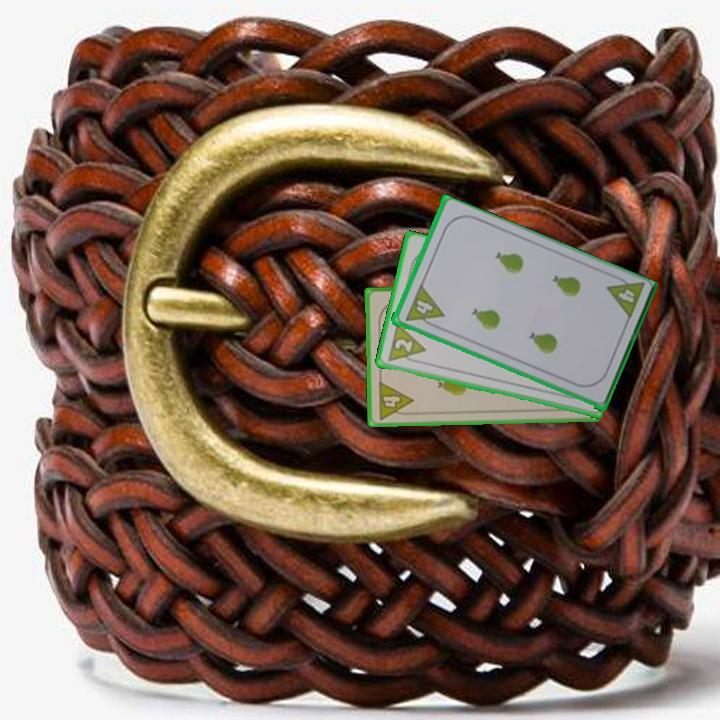2p: (384, 321, 428, 367)
4p: (374, 378, 416, 422), (410, 283, 446, 317), (614, 285, 637, 306)
